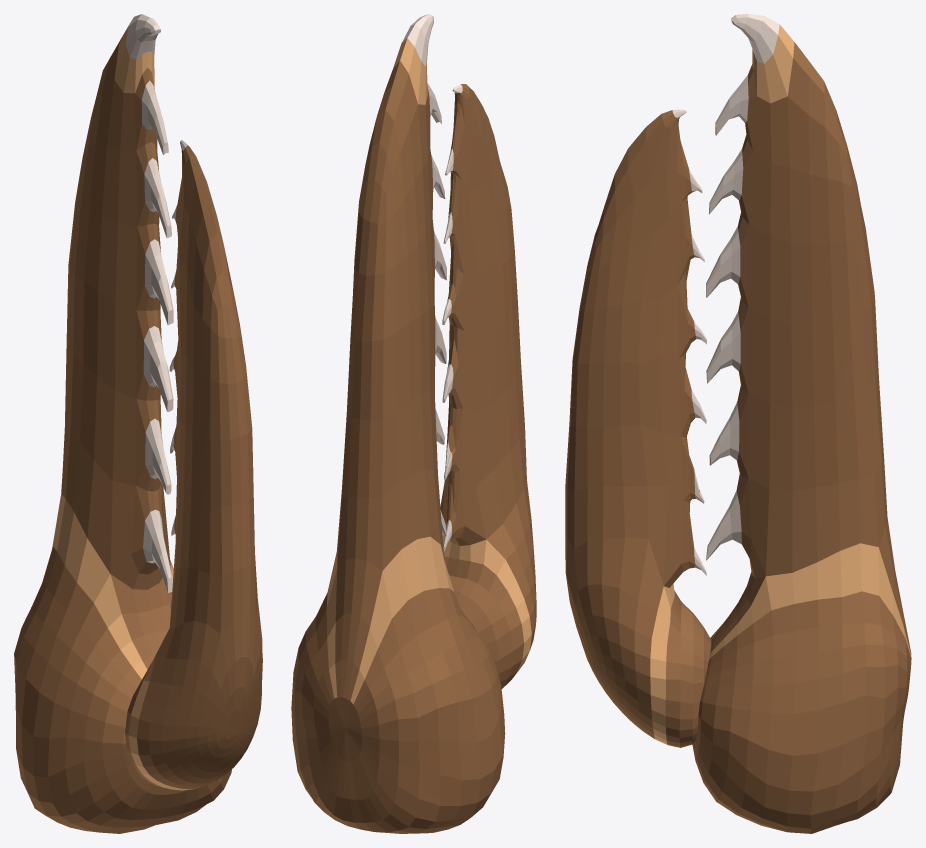
The model's file is Bug Sword.fbx.
The picture shows the model from 3 angles, left to right: view 1: azimuth 30°, elevation 25°; view 2: azimuth 150°, elevation 25°; view 3: azimuth 270°, elevation 25°; orthographic projection. The views are drawn at different scales.
Parts seen in each view (by area): view 1: Bug Sword - VoidBeat; view 2: Bug Sword - VoidBeat; view 3: Bug Sword - VoidBeat.
Boxes of the visible parts, bbox=[...] form: Bug Sword - VoidBeat: bbox=[14, 14, 262, 833]; Bug Sword - VoidBeat: bbox=[291, 14, 536, 833]; Bug Sword - VoidBeat: bbox=[565, 14, 911, 833].
Size of the model in its own units: 27.56 by 115 by 44.78.
